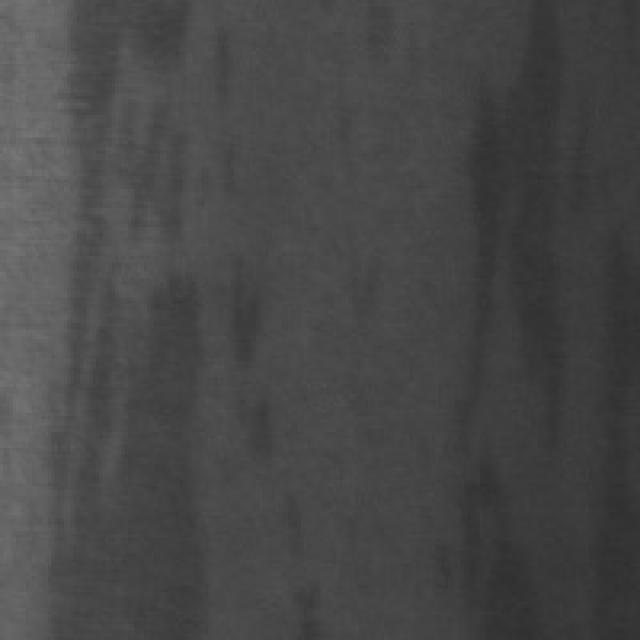inclusion: (51, 0, 202, 634), (454, 3, 576, 627), (224, 243, 291, 467), (333, 237, 381, 333)
